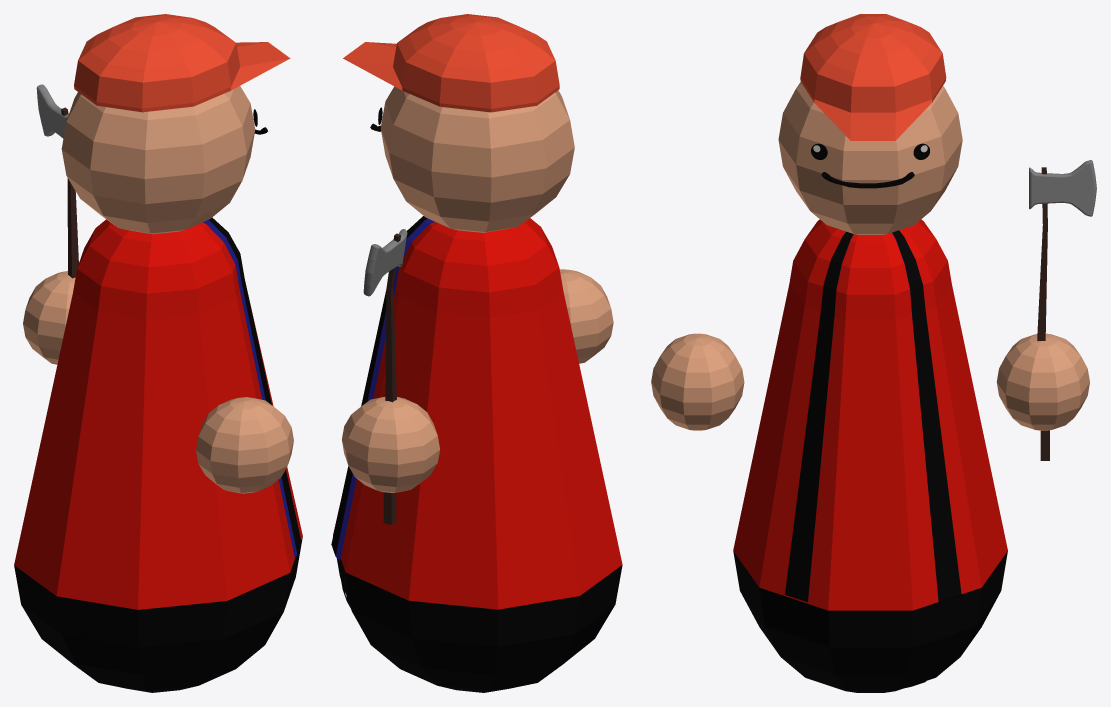
Rendered from Mesh_Char_Lumberjack.fbx.
3 renders of one model, left to right at view 1: azimuth 30°, elevation 25°; view 2: azimuth 150°, elevation 25°; view 3: azimuth 270°, elevation 25°, orthographic.
Parts seen in each view (by area): view 1: Cube.009, Circle.001, Cube.067, Plane, Cube.011; view 2: Cube.009, Circle.001, Cube.067, Cube.011, Plane; view 3: Cube.009, Cube.067, Circle.001, Plane, Cube.011.
Part boxes in pixels (left/top/right/bottom): Cube.009: left=14, top=86, right=302, bottom=692; Circle.001: left=74, top=14, right=290, bottom=112; Cube.067: left=203, top=217, right=301, bottom=557; Plane: left=36, top=84, right=68, bottom=138; Cube.011: left=61, top=107, right=78, bottom=278; Cube.009: left=333, top=86, right=622, bottom=692; Circle.001: left=343, top=14, right=559, bottom=112; Cube.067: left=331, top=216, right=434, bottom=607; Cube.011: left=383, top=233, right=400, bottom=524; Plane: left=363, top=229, right=407, bottom=296; Cube.009: left=651, top=82, right=1089, bottom=692; Cube.067: left=785, top=230, right=961, bottom=687; Circle.001: left=800, top=14, right=946, bottom=140; Plane: left=1029, top=160, right=1096, bottom=216; Cube.011: left=1037, top=167, right=1049, bottom=460.
Bounding box in the file's own units: 81.97 × 209 × 129.
